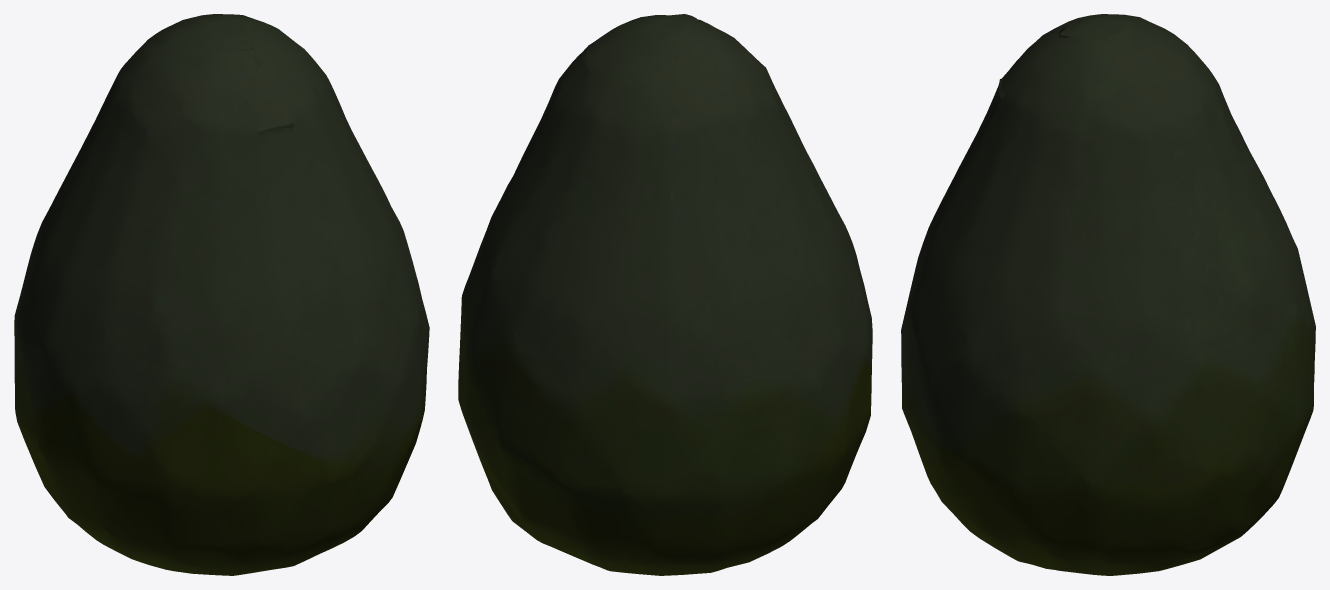
The model's file is Aguacate modelo 3D.glb.
3 renders of one model, left to right at view 1: azimuth 30°, elevation 25°; view 2: azimuth 150°, elevation 25°; view 3: azimuth 270°, elevation 25°, orthographic.
Parts seen in each view (by area): view 1: tripo_node_de168105-b8c6-4c2d-8ee5-84c627c4c351; view 2: tripo_node_de168105-b8c6-4c2d-8ee5-84c627c4c351; view 3: tripo_node_de168105-b8c6-4c2d-8ee5-84c627c4c351.
Part boxes in pixels (x1,y1,x2,y2): tripo_node_de168105-b8c6-4c2d-8ee5-84c627c4c351: (14,14,429,575); tripo_node_de168105-b8c6-4c2d-8ee5-84c627c4c351: (458,14,872,575); tripo_node_de168105-b8c6-4c2d-8ee5-84c627c4c351: (901,14,1315,575).
Size of the model in its own units: 0.7305 by 0.9998 by 0.7321.
1 material, 1 textured.
